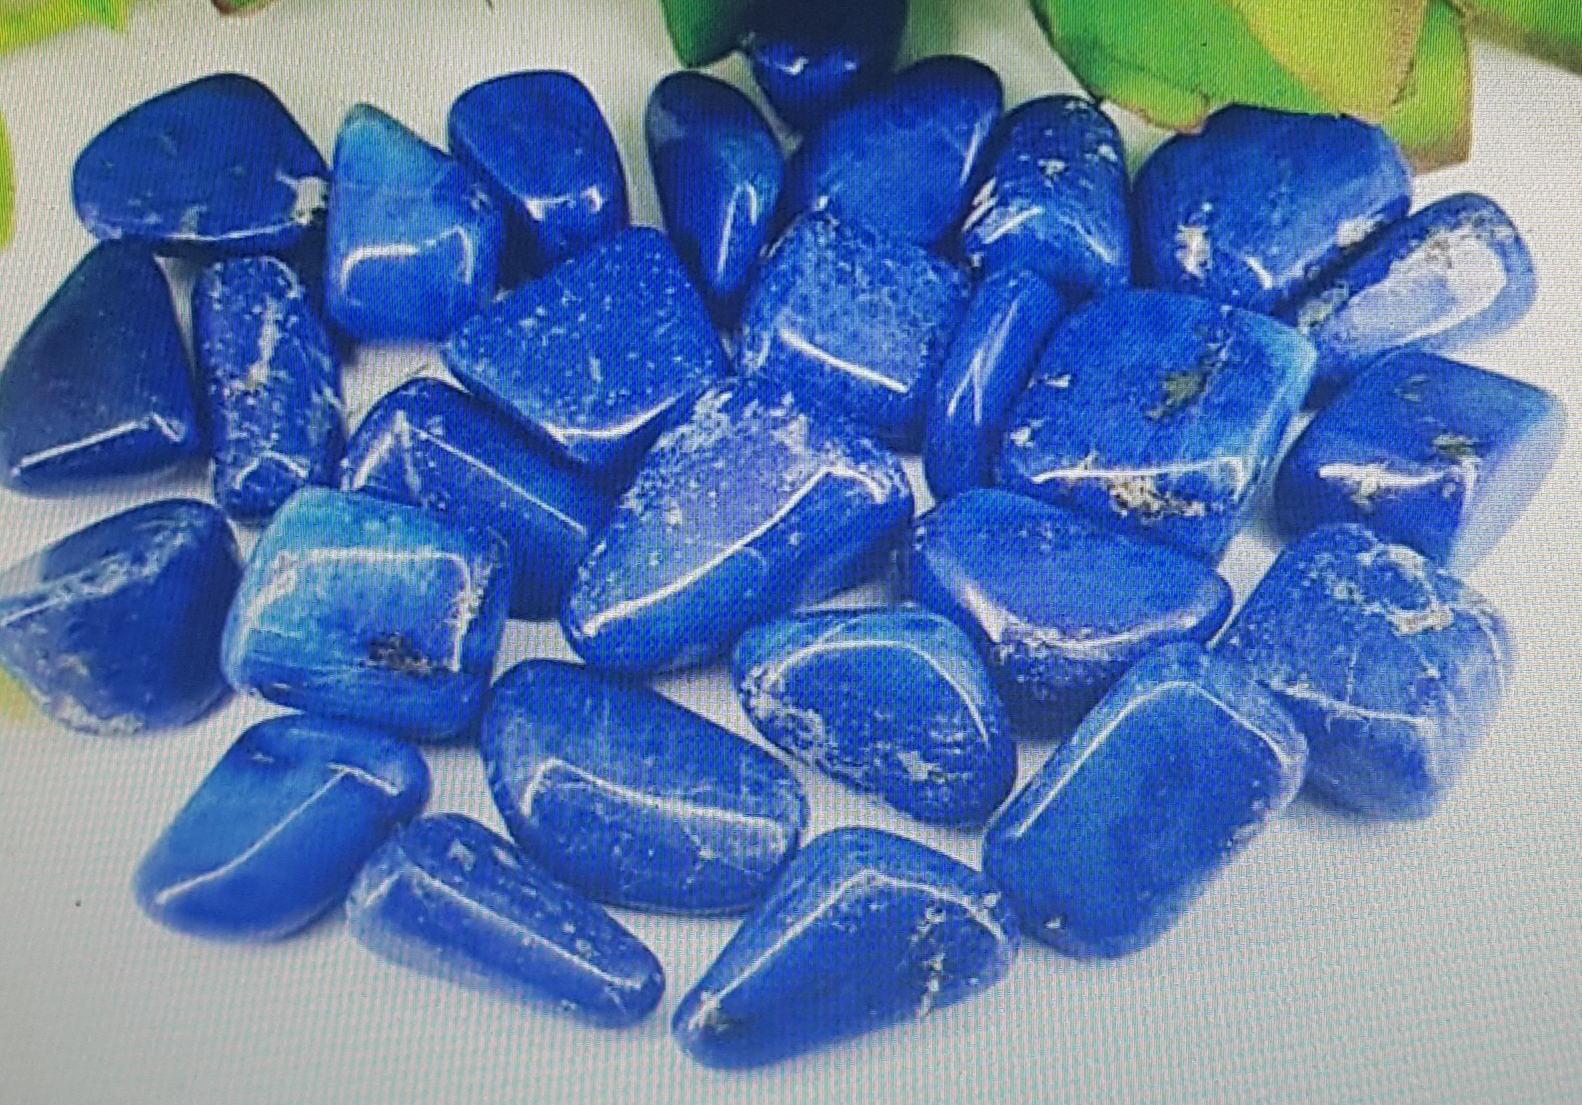Blue: (48, 158, 1563, 1074)
